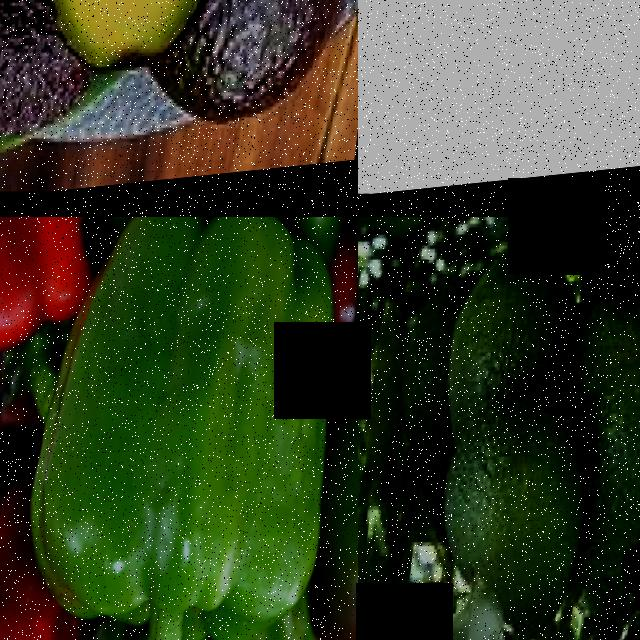avocado: (424, 387, 599, 640), (432, 230, 595, 492), (5, 0, 272, 121), (550, 269, 640, 566), (204, 0, 358, 148), (386, 268, 466, 521)
banana: (358, 0, 640, 212)
bell pepper: (37, 240, 337, 640), (0, 217, 80, 438)
